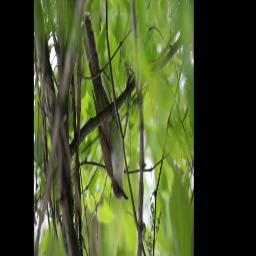Cuckoo: (81, 10, 129, 205)
